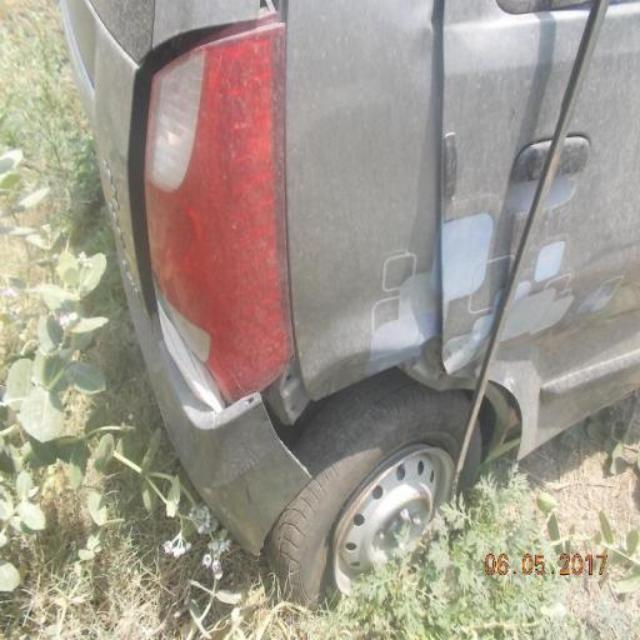dent: (441, 266, 639, 468)
no part: (263, 332, 535, 481)
